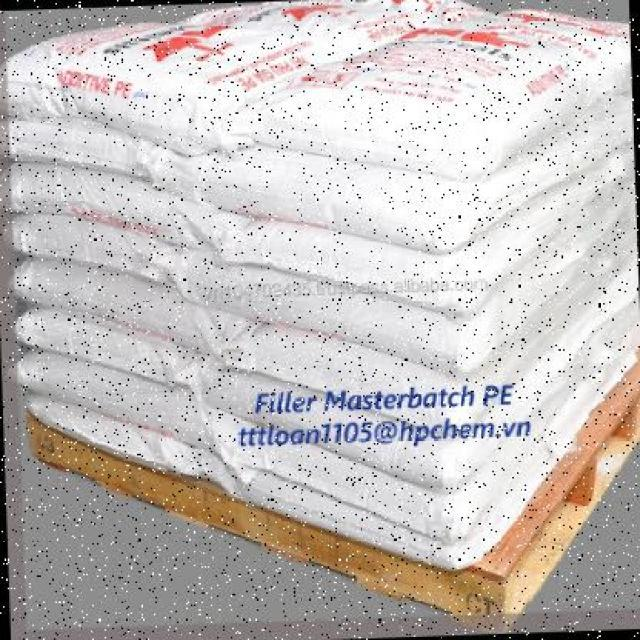gunny_bag: (200, 357, 452, 500), (212, 406, 444, 537), (199, 147, 450, 262), (215, 462, 459, 579), (217, 260, 462, 376), (225, 321, 468, 433), (8, 257, 228, 364), (219, 219, 457, 317), (0, 56, 227, 153), (9, 343, 205, 454), (0, 158, 217, 255), (229, 110, 493, 186), (19, 385, 212, 487), (1, 216, 217, 307), (11, 299, 205, 398), (0, 122, 205, 206)
